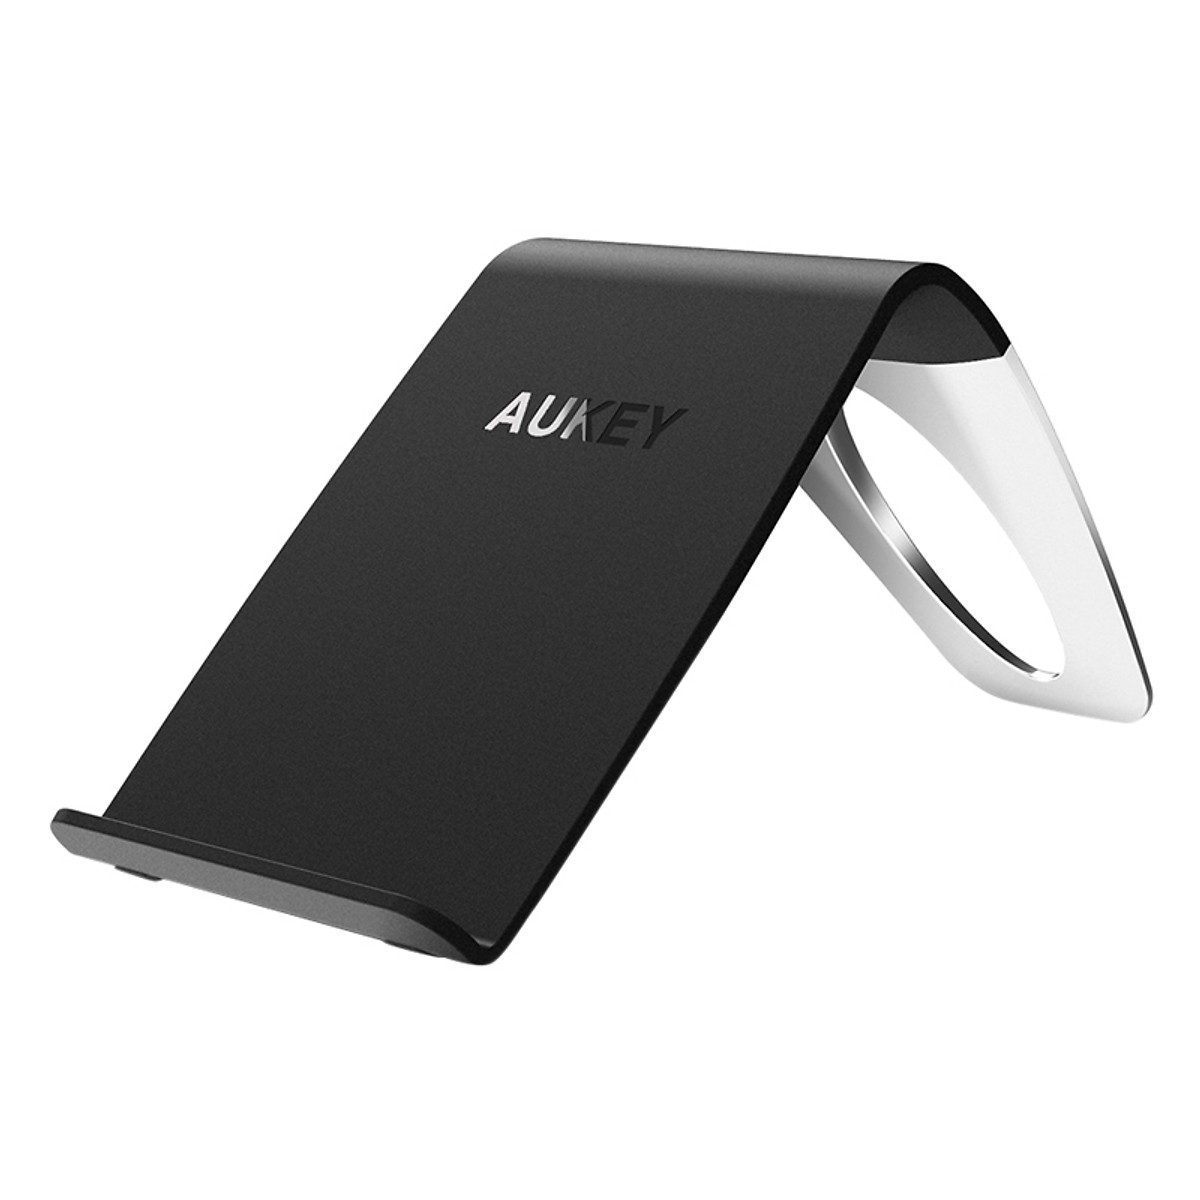Aukey: (462, 335, 804, 560)
